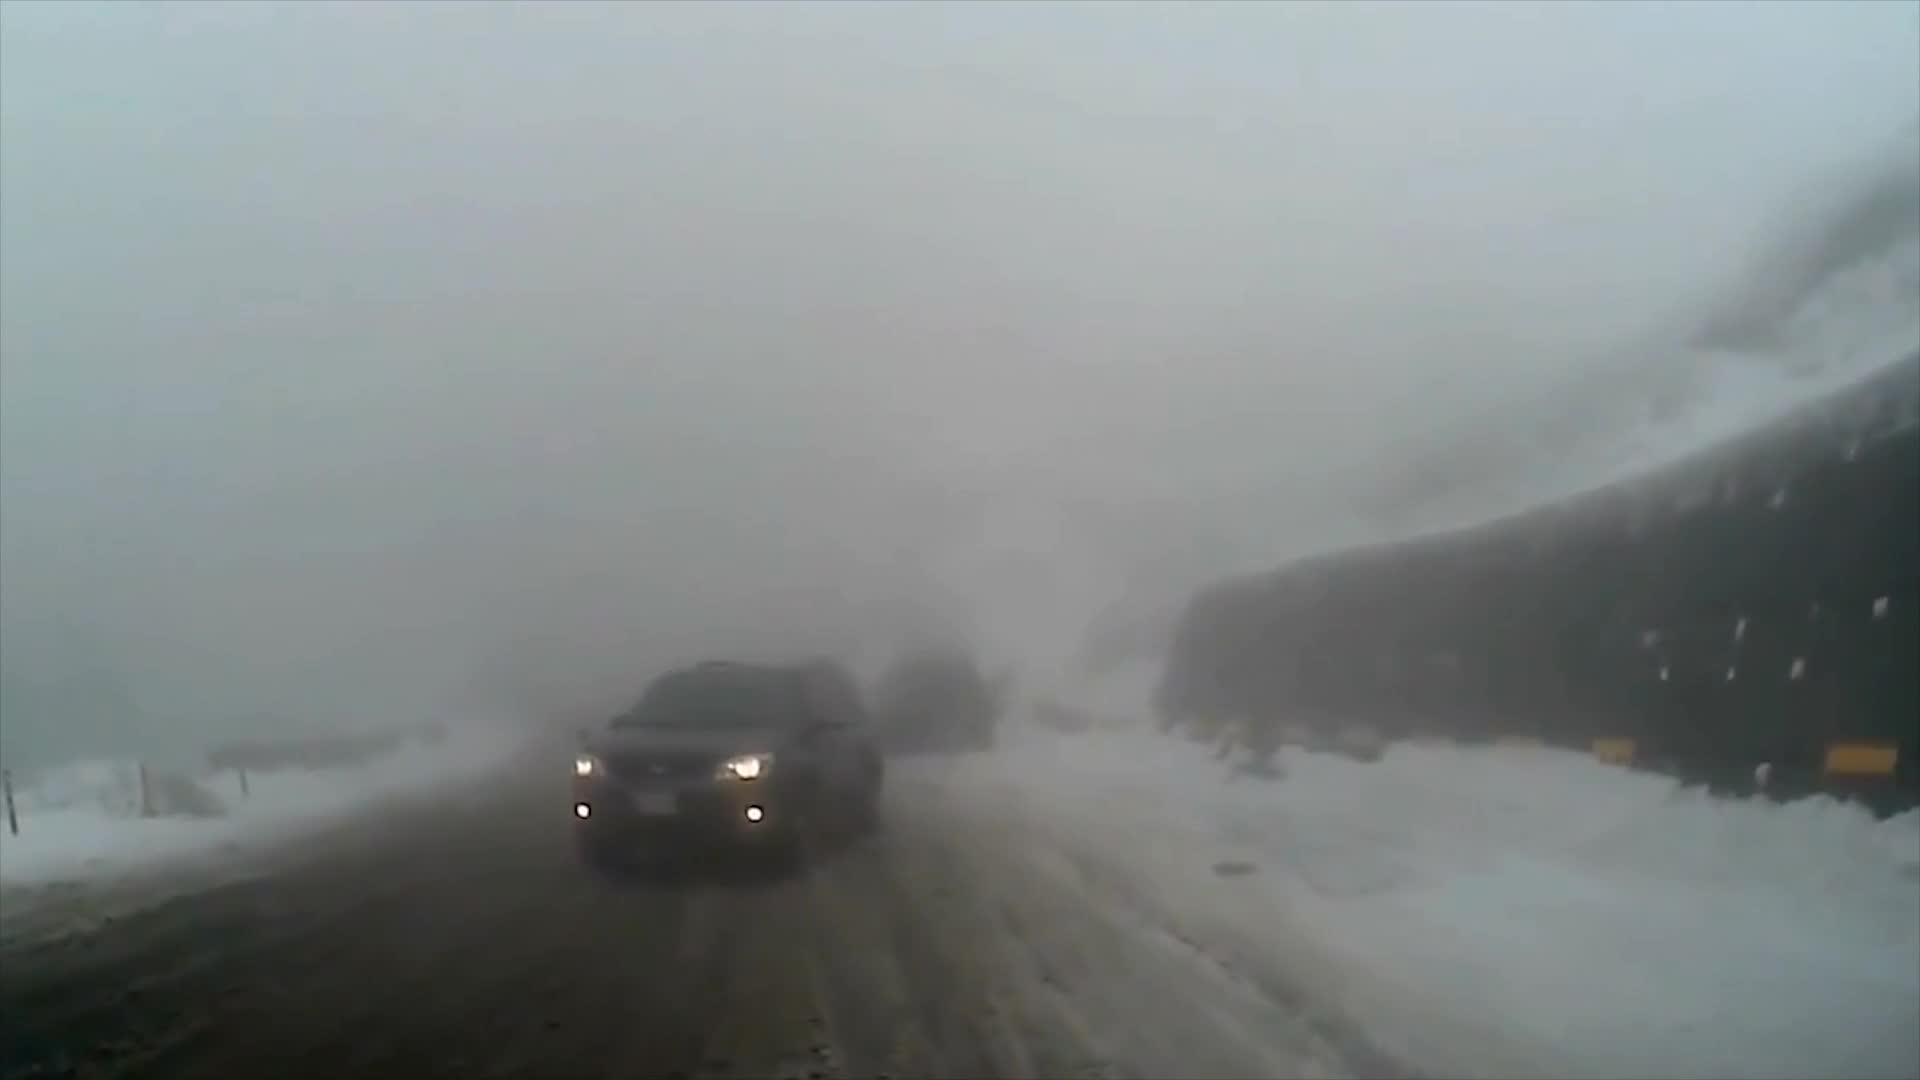vehicle: (566, 654, 884, 880)
